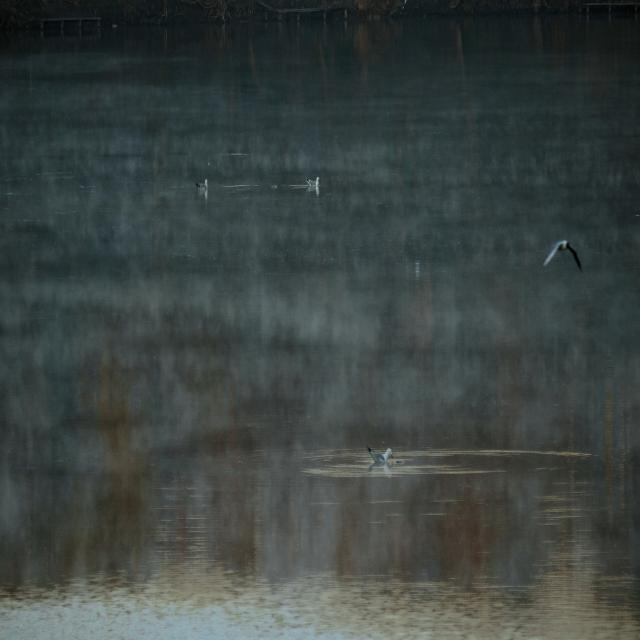bird: (540, 228, 584, 280), (363, 442, 394, 472), (302, 170, 324, 191), (192, 175, 212, 197)
